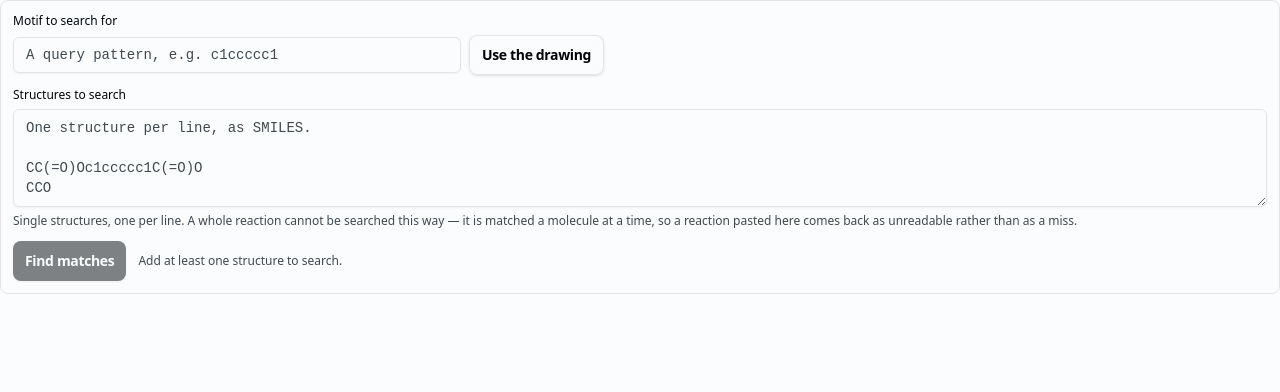
Scenario: SubstructureQueryPanel › does not silently accept an empty canvas as a query
Step 1. Click the button "Use the drawing" → (537, 55), box 469,35 -> 604,75
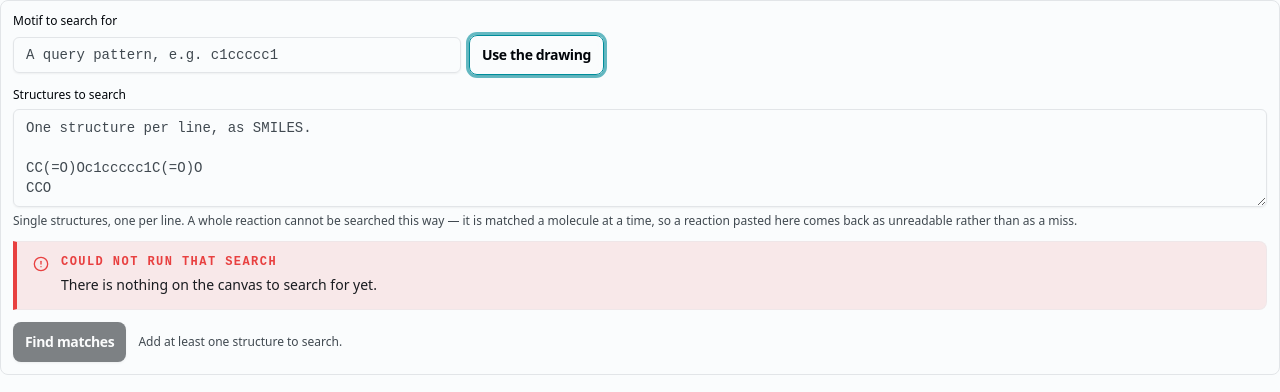
Expected: the text "There is nothing on the canvas to search for yet." is shown, 61,274 -> 377,297
